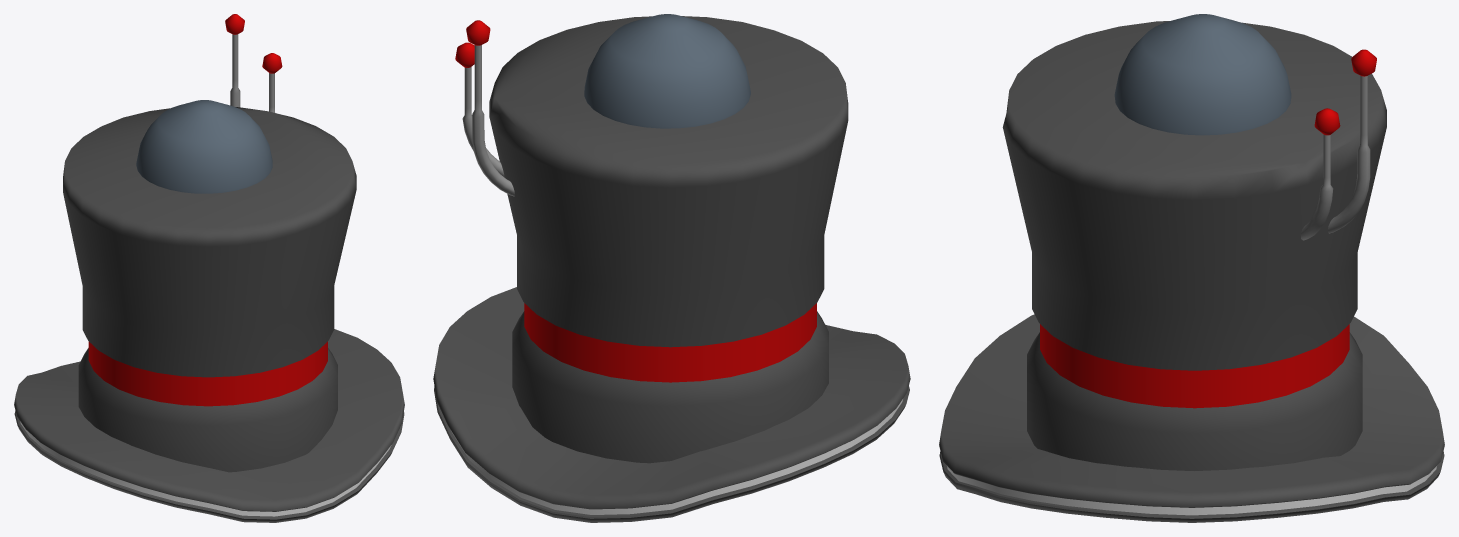
Rendered from top hat ufo 2.fbx.
3 views of the same model, side by side, from view 1: azimuth 30°, elevation 25°; view 2: azimuth 150°, elevation 25°; view 3: azimuth 270°, elevation 25° (orthographic). The views are drawn at different scales.
Visible parts, largest first — view 1: pCylinder1, pCylinder2, pSphere10, pCylinder5; view 2: pCylinder1, pCylinder2, pSphere10, pCylinder5, pCylinder4; view 3: pCylinder1, pCylinder2, pSphere10, pCylinder5, pCylinder4.
Part boxes in pixels (x1,y1,x2,y2): pCylinder1: (63, 107, 356, 472); pCylinder2: (14, 329, 404, 522); pSphere10: (136, 100, 272, 193); pCylinder5: (230, 34, 240, 107); pCylinder1: (489, 16, 848, 463); pCylinder2: (433, 287, 910, 522); pSphere10: (584, 14, 750, 128); pCylinder5: (472, 45, 514, 196); pCylinder4: (462, 67, 504, 177); pCylinder1: (1002, 21, 1386, 470); pCylinder2: (939, 314, 1444, 522); pSphere10: (1114, 14, 1291, 135); pCylinder5: (1327, 75, 1370, 233); pCylinder4: (1300, 134, 1333, 240).
Bounding box in the file's own units: 5.71 × 5.83 × 5.71.
